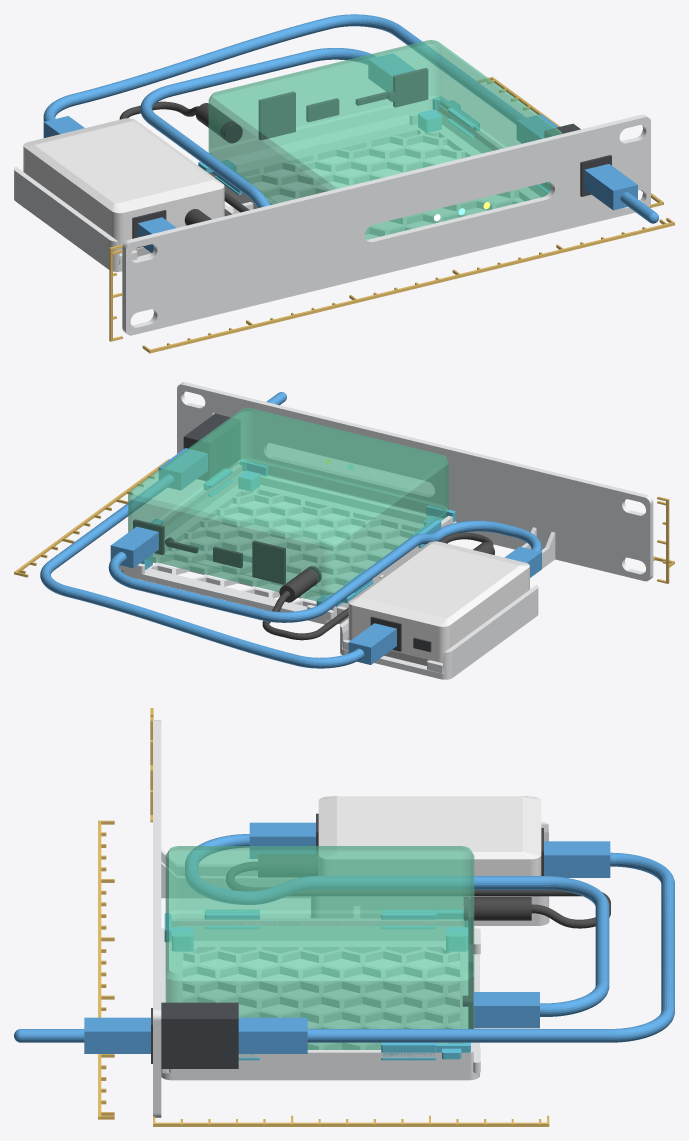
Rendered from home-assistant-green-rack-front_ethernet_far_right-no_shutter.glb.
3 views of the same model, one above another, from view 1: azimuth 30°, elevation 25°; view 2: azimuth 150°, elevation 25°; view 3: azimuth 270°, elevation 25° (orthographic). The views are drawn at different scales.
Visible parts, largest first — view 1: White rack mount, Home Assistant Green, TP-Link TL-PD30G-M2, Green tray — standard, Front keystone → TP-Link PoE jumper, Internal Ethernet cable, Home Assistant Green connector faces, 10 mm dimension rulers, TP-Link cradle side walls, DC cable, Green retention — segmented rails + rear latch, Home Assistant logo (+2 smaller); view 2: Home Assistant Green, White rack mount, Green tray — standard, TP-Link TL-PD30G-M2, Front keystone → TP-Link PoE jumper, Internal Ethernet cable, TP-Link cradle side walls, Home Assistant Green connector faces, Front keystone coupler, Green retention — segmented rails + rear latch, DC cable, 10 mm dimension rulers (+2 smaller); view 3: Home Assistant Green, Green tray — standard, TP-Link TL-PD30G-M2, Front keystone → TP-Link PoE jumper, Internal Ethernet cable, White rack mount, DC cable, Front keystone coupler, Green retention — segmented rails + rear latch, 10 mm dimension rulers, TP-Link cradle side walls, Home Assistant Green connector faces.
Part boxes in pixels (x1,y1,x2,y2): White rack mount: (122,114,650,335); Home Assistant Green: (208,40,562,239); TP-Link TL-PD30G-M2: (23,118,224,256); Green tray — standard: (208,105,550,236); Front keystone → TP-Link PoE jumper: (43,14,658,223); Internal Ethernet cable: (137,48,415,252); Home Assistant Green connector faces: (223,68,428,143); 10 mm dimension rulers: (109,76,674,353); TP-Link cradle side walls: (14,166,233,265); DC cable: (119,101,249,225); Green retention — segmented rails + rear latch: (198,96,550,194); Home Assistant logo: (235,233,276,283); Home Assistant Green: (128,408,448,602); White rack mount: (177,382,653,624); Green tray — standard: (119,464,456,624); TP-Link TL-PD30G-M2: (348,541,529,665); Front keystone → TP-Link PoE jumper: (40,392,396,668); Internal Ethernet cable: (108,520,541,622); TP-Link cradle side walls: (340,585,538,673); Home Assistant Green connector faces: (133,519,321,584); Front keystone coupler: (183,413,240,480); Green retention — segmented rails + rear latch: (140,459,455,609); DC cable: (262,532,494,640); 10 mm dimension rulers: (14,459,674,583); Home Assistant Green: (165,846,474,1049); Green tray — standard: (161,918,480,1080); TP-Link TL-PD30G-M2: (318,796,541,875); Front keystone → TP-Link PoE jumper: (14,841,674,1053); Internal Ethernet cable: (185,822,609,1028); White rack mount: (153,720,463,1117); DC cable: (226,854,610,928); Front keystone coupler: (151,1002,238,1068); Green retention — segmented rails + rear latch: (164,909,470,1060); 10 mm dimension rulers: (98,708,549,1126); TP-Link cradle side walls: (311,821,548,918); Home Assistant Green connector faces: (462,897,473,1028).
Size of what is drawn, in the model's own units: 268 by 43 by 240.
